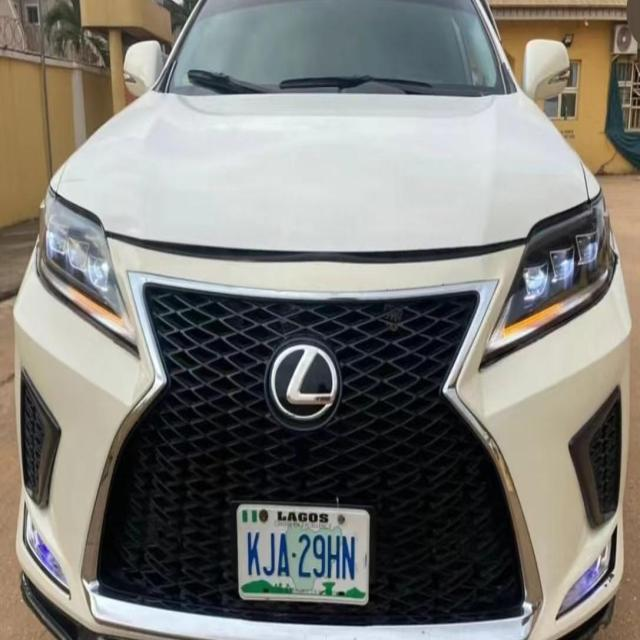Nigerian License Plate - vdataset benjamin-daria: (232, 499, 374, 609)
